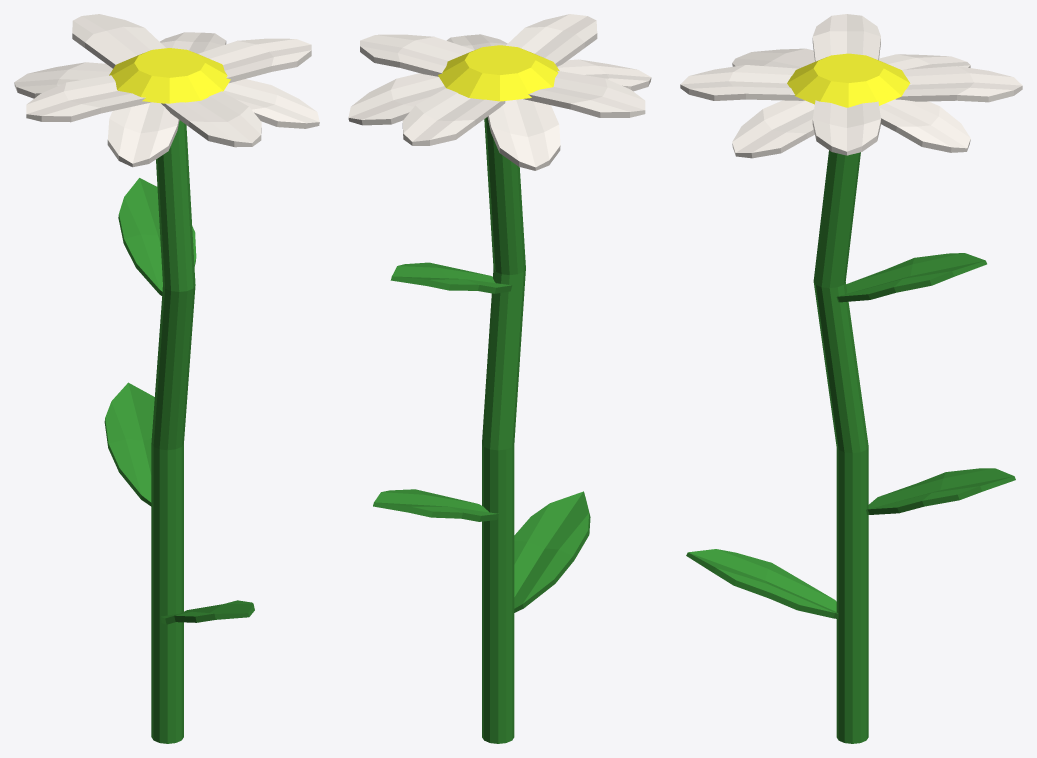
Rendered from free3d-flower.glb.
3 views of the same model, side by side, from view 1: azimuth 30°, elevation 25°; view 2: azimuth 150°, elevation 25°; view 3: azimuth 270°, elevation 25° (orthographic).
Parts seen in each view (by area): view 1: Flower1.1; view 2: Flower1.1; view 3: Flower1.1.
Part boxes in pixels (x1=…): Flower1.1: x1=14, y1=14, x2=319, y2=743; Flower1.1: x1=348, y1=14, x2=651, y2=743; Flower1.1: x1=680, y1=14, x2=1022, y2=743.
Bounding box in the file's own units: 0.2739 × 0.62 × 0.2876.
